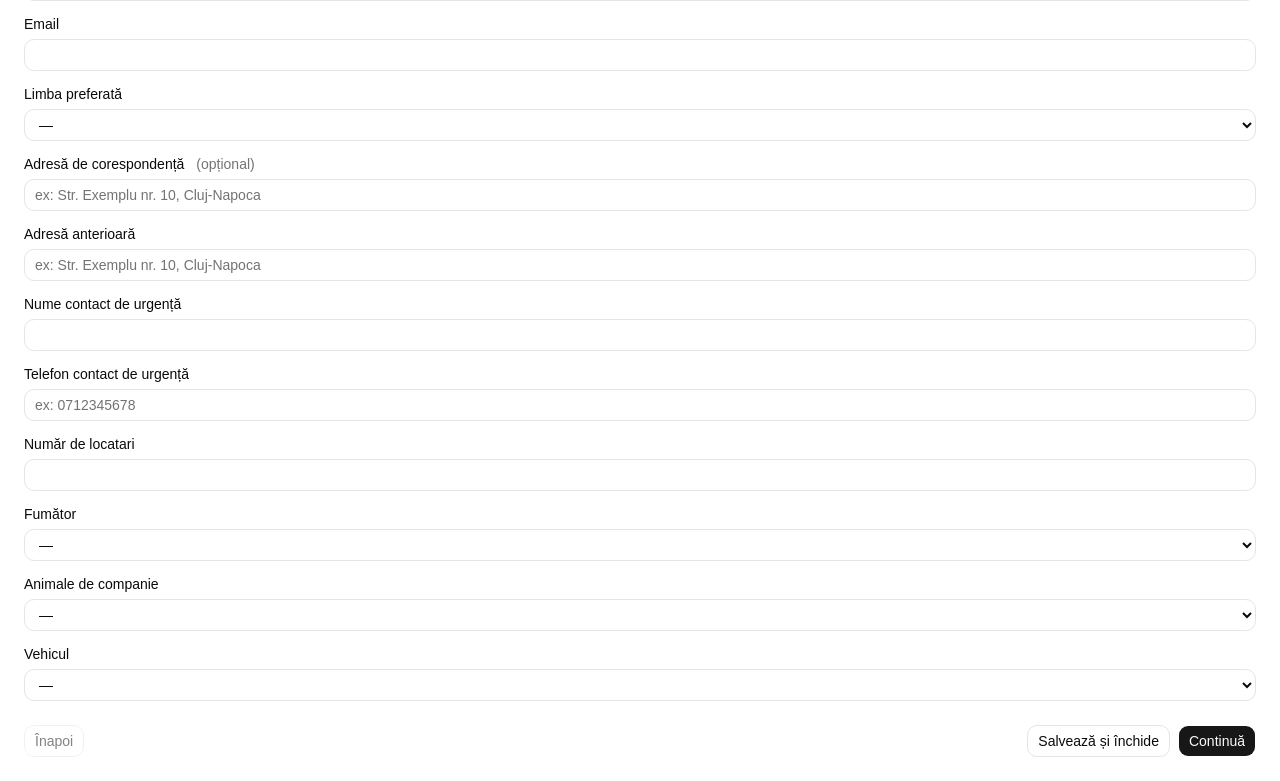
Test case: OnboardingWizardPage — Step 1 personal data (FR-TEN-02) › choosing "yes" for pets reveals the type field (conditional)
(page scrolled)
Expected: the field labelled "Tip animal" is not shown
Select "Da" in the dropdown labelled "Animale de companie" at (640, 615), box [24,599,1256,631]
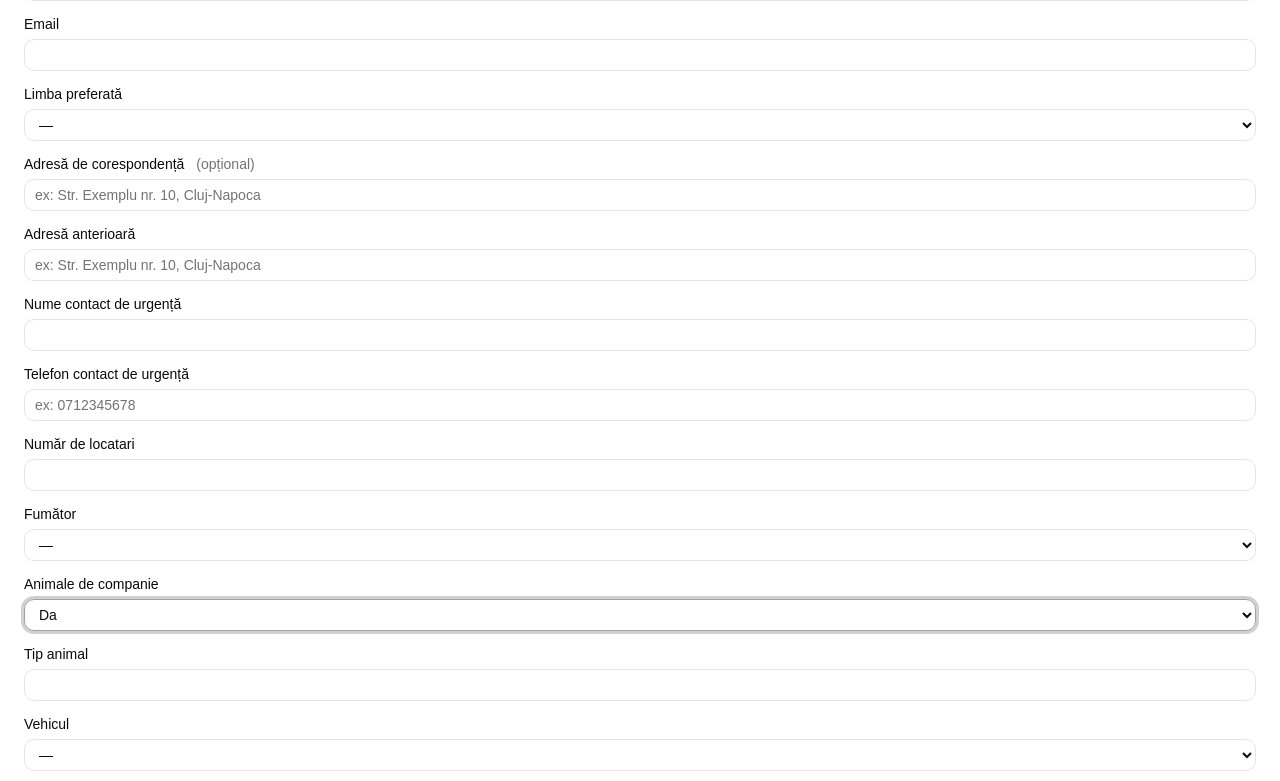
Expected: the field labelled "Tip animal" is shown, [24,669,1256,701]
